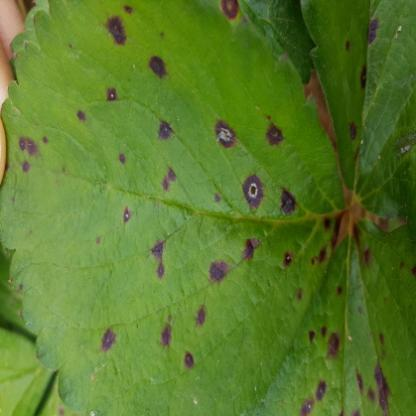Strawberry_Leaf_Spot: (0, 0, 346, 415), (256, 219, 415, 415), (300, 0, 415, 232)
